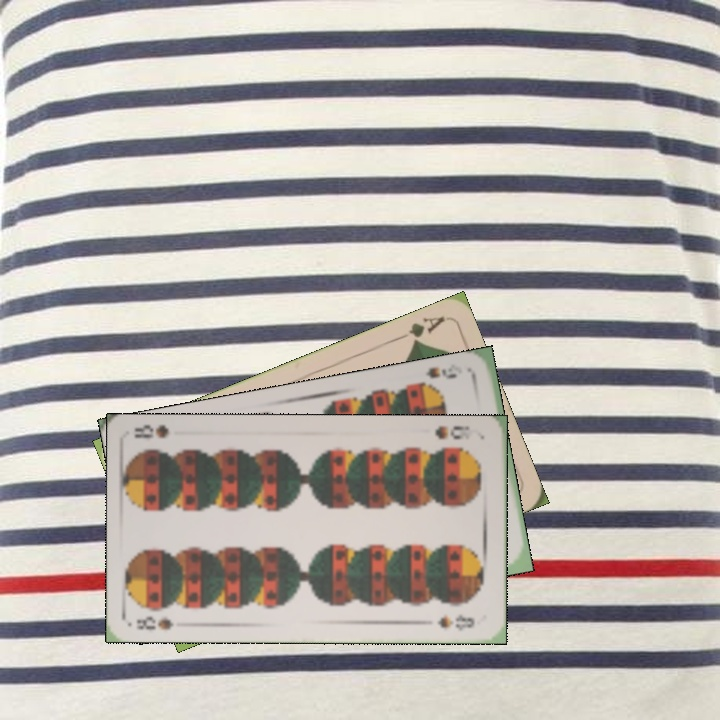GA: (391, 312, 447, 349)
S8: (431, 422, 481, 442), (133, 612, 176, 633)
S9: (411, 363, 459, 394)
